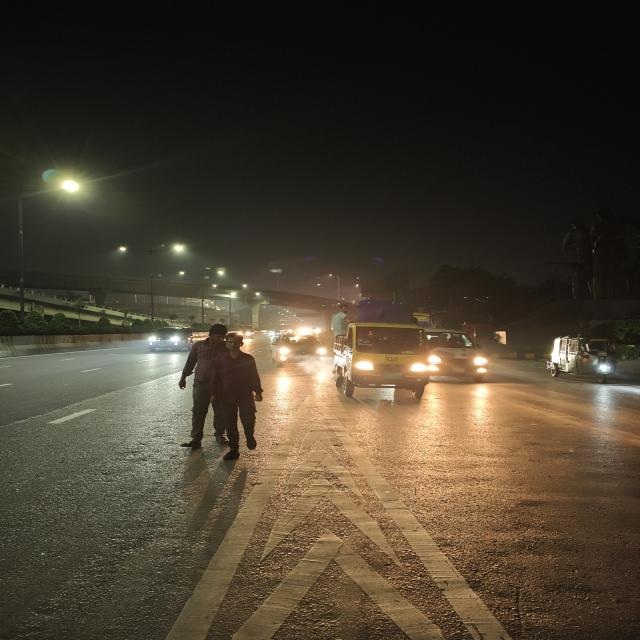car: (426, 328, 494, 386), (144, 324, 194, 354)
cng: (540, 326, 620, 392)
pedestrian: (177, 323, 268, 460)
pickup_van: (328, 301, 442, 403)
